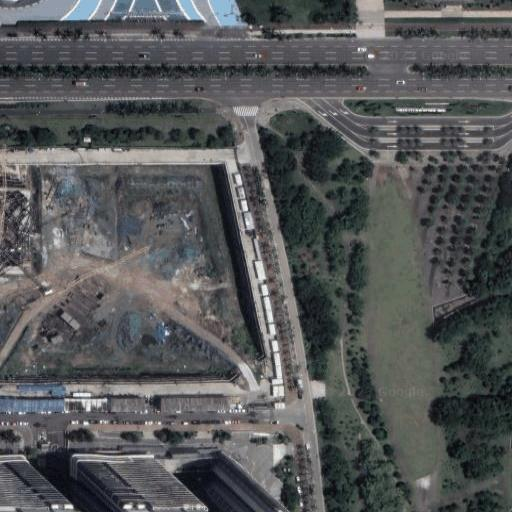building: (70, 455, 155, 511), (203, 453, 263, 512), (0, 195, 35, 263), (0, 455, 27, 510), (158, 459, 212, 475), (162, 399, 229, 411), (64, 399, 108, 412), (111, 399, 144, 412), (255, 261, 266, 280), (244, 212, 254, 229), (254, 239, 262, 260), (19, 386, 52, 390), (52, 386, 62, 399), (241, 200, 250, 213), (73, 393, 91, 399), (264, 297, 271, 312), (234, 174, 243, 184), (266, 311, 274, 322), (238, 187, 246, 198), (274, 353, 280, 366), (269, 324, 276, 335), (261, 284, 268, 295), (273, 378, 282, 386), (276, 366, 282, 378), (144, 408, 154, 415), (278, 386, 284, 396), (273, 386, 278, 397), (274, 340, 278, 353), (274, 403, 284, 408)
